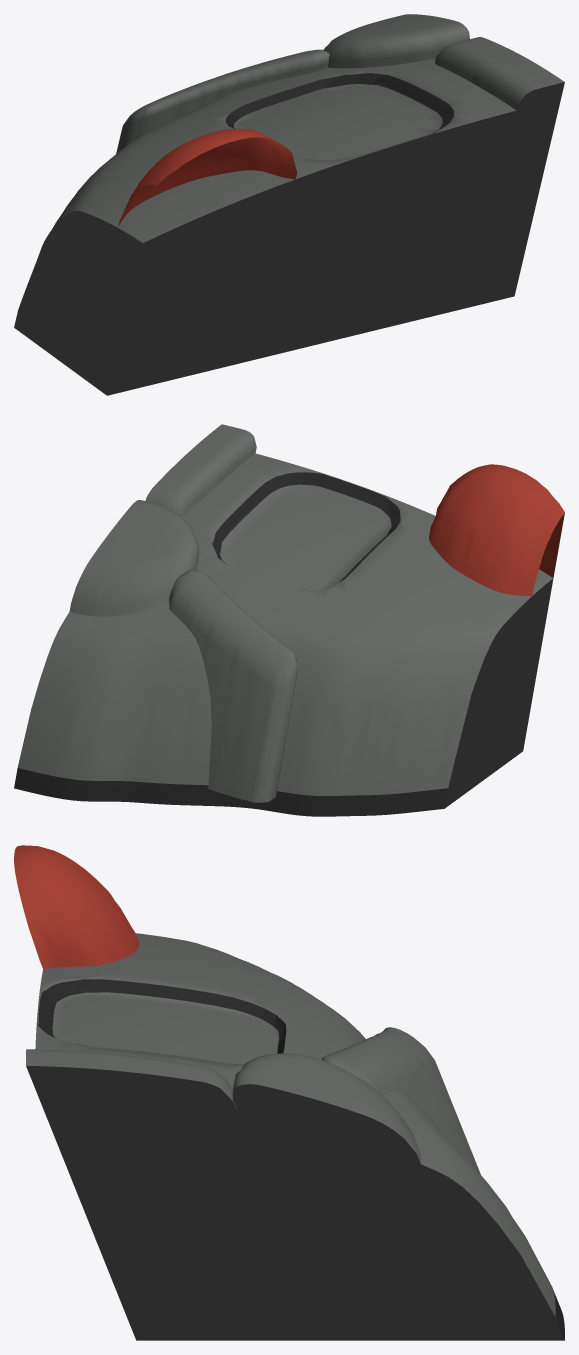
The model's file is dome_head_10.glb.
3 views of the same model, one above another, from view 1: azimuth 30°, elevation 25°; view 2: azimuth 150°, elevation 25°; view 3: azimuth 270°, elevation 25° (orthographic). The views are drawn at different scales.
Parts seen in each view (by area): view 1: dome_head_10; view 2: dome_head_10; view 3: dome_head_10.
Part boxes in pixels (bbox=[...]): dome_head_10: bbox=[14, 14, 564, 395]; dome_head_10: bbox=[14, 424, 564, 816]; dome_head_10: bbox=[14, 845, 564, 1340].
Bounding box in the file's own units: 24 × 15.73 × 25.7.
